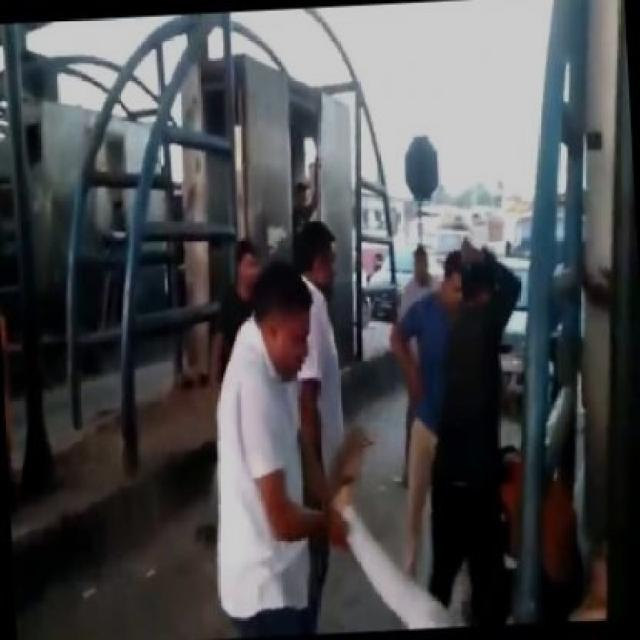fight: (214, 259, 556, 640)
